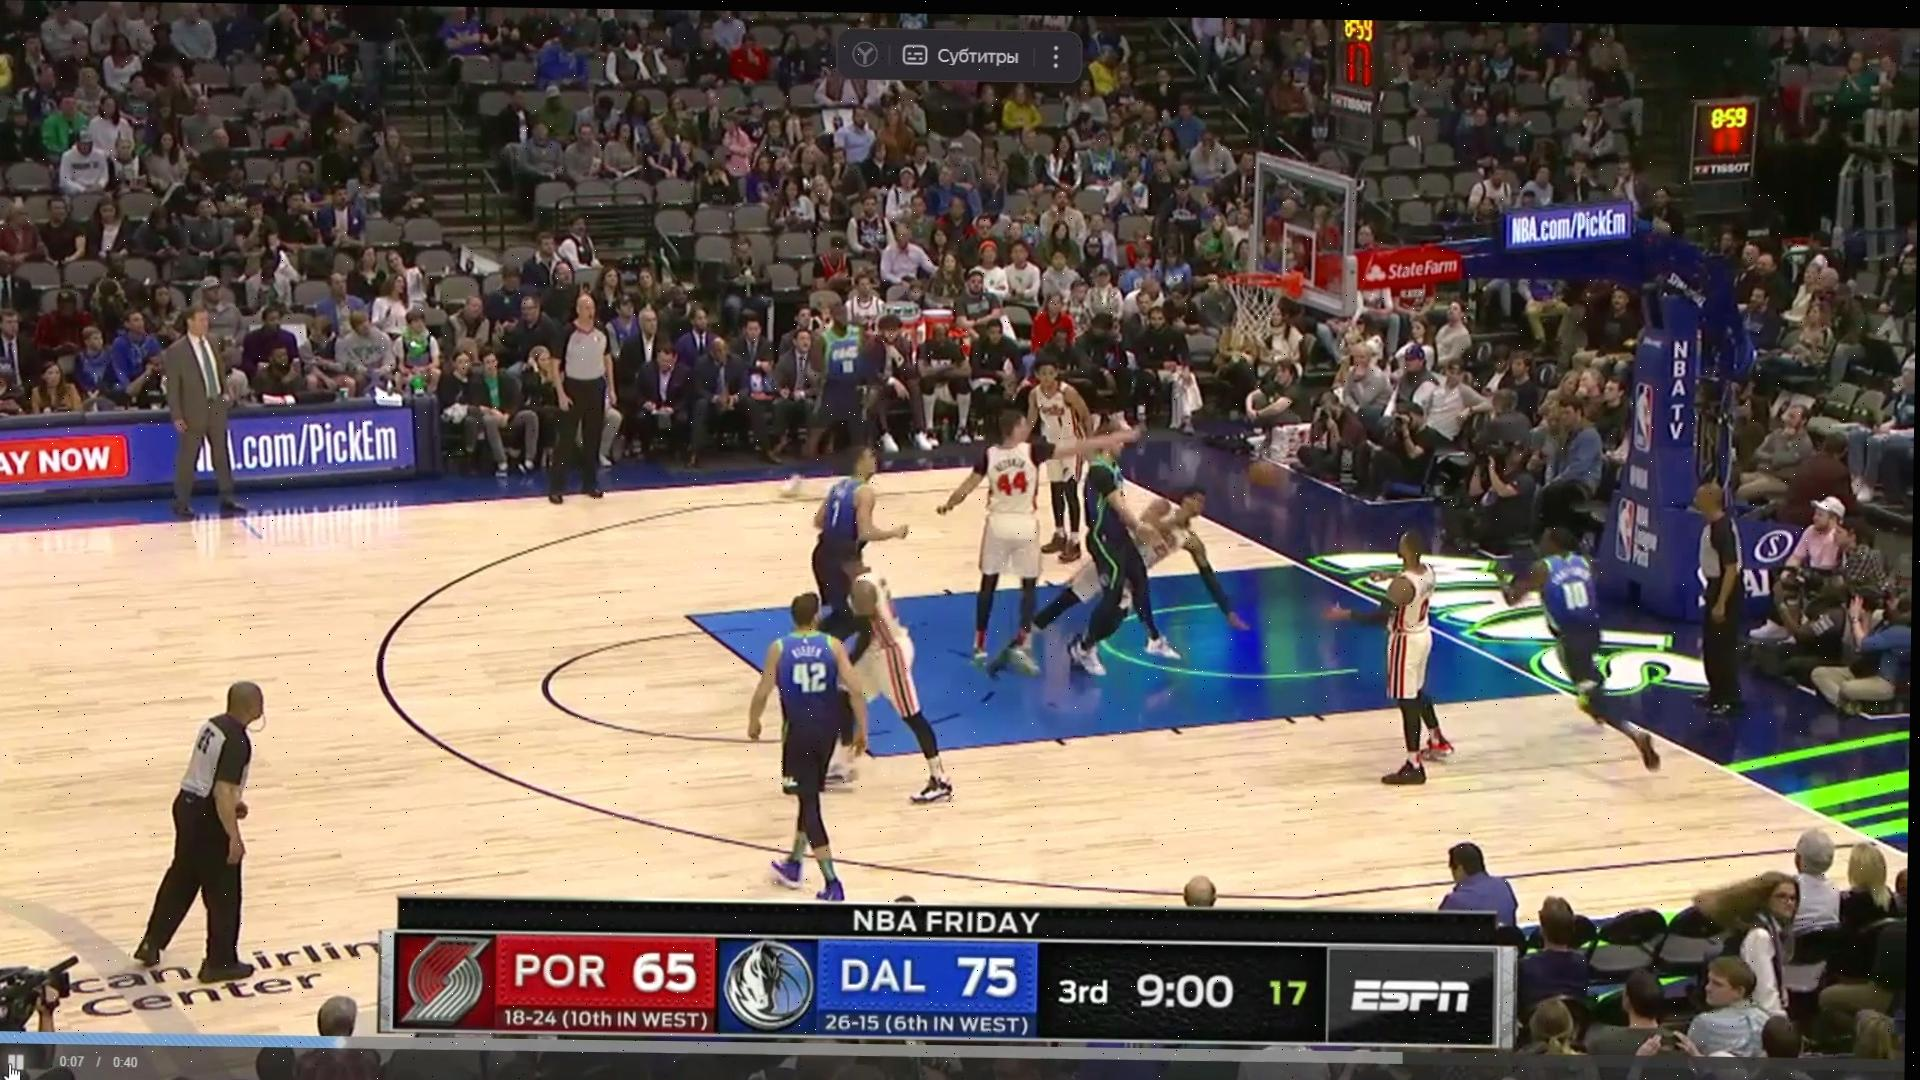foul: (1048, 427, 1233, 679)
